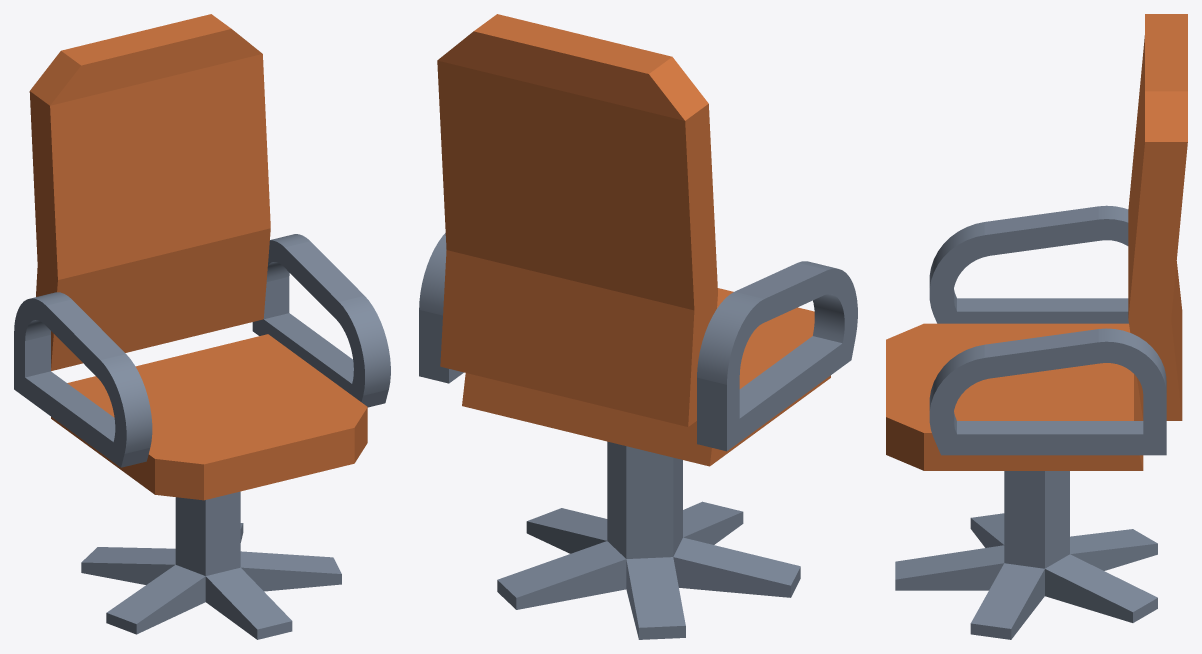
File: chair-desk.glb
3 views of the same model, side by side, from view 1: azimuth 30°, elevation 25°; view 2: azimuth 150°, elevation 25°; view 3: azimuth 270°, elevation 25° (orthographic). The views are drawn at different scales.
Parts seen in each view (by area): view 1: chairDesk(Clone); view 2: chairDesk(Clone); view 3: chairDesk(Clone).
Part boxes in pixels (<box>): chairDesk(Clone): <box>14,14,390,639</box>; chairDesk(Clone): <box>419,14,857,639</box>; chairDesk(Clone): <box>886,14,1187,639</box>.
Size of the model in its own units: 0.6063 by 1.1 by 0.569.
